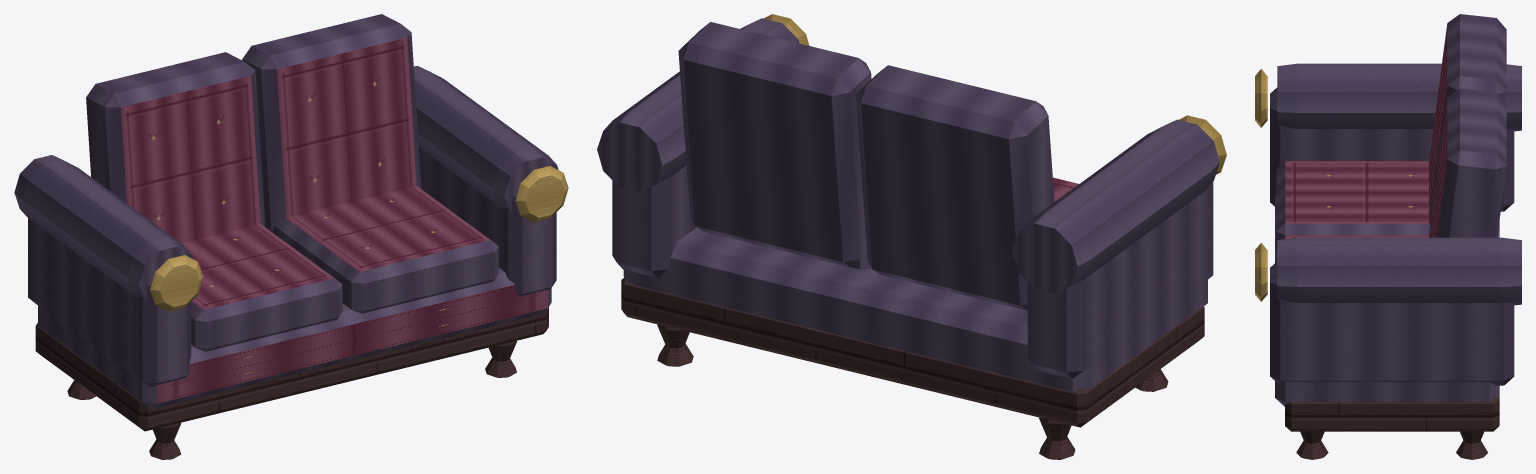
The model's file is MD_22_Loveseat.fbx.
The picture shows the model from 3 angles, left to right: view 1: azimuth 30°, elevation 25°; view 2: azimuth 150°, elevation 25°; view 3: azimuth 270°, elevation 25°; orthographic projection. The views are drawn at different scales.
Parts seen in each view (by area): view 1: MD_22_Loveseat_back_cushion_1, MD_22_Loveseat_back_cushion_0, MD_22_Loveseat_upholstered_base, MD_22_Loveseat_seat_cushion_1, MD_22_Loveseat_seat_cushion_0, MD_22_Loveseat_curved_arm_base, MD_22_Loveseat_rolled_arm, MD_22_Loveseat_timber_apron, MD_22_Loveseat_rolled_arm.001, MD_22_Loveseat_curved_arm_base.001, MD_22_Loveseat_gilt_arm_finial, MD_22_Loveseat_gilt_arm_finial.001 (+2 smaller); view 2: MD_22_Loveseat_back_cushion_1, MD_22_Loveseat_back_cushion_0, MD_22_Loveseat_upholstered_base, MD_22_Loveseat_timber_apron, MD_22_Loveseat_rolled_arm, MD_22_Loveseat_curved_arm_base, MD_22_Loveseat_rolled_arm.001, MD_22_Loveseat_curved_arm_base.001, MD_22_Loveseat_turned_leg.003, MD_22_Loveseat_turned_leg.001, MD_22_Loveseat_gilt_arm_finial; view 3: MD_22_Loveseat_curved_arm_base.001, MD_22_Loveseat_rolled_arm.001, MD_22_Loveseat_rolled_arm, MD_22_Loveseat_seat_cushion_0, MD_22_Loveseat_back_cushion_1, MD_22_Loveseat_curved_arm_base, MD_22_Loveseat_timber_apron, MD_22_Loveseat_back_cushion_0, MD_22_Loveseat_upholstered_base, MD_22_Loveseat_turned_leg.003, MD_22_Loveseat_turned_leg.002, MD_22_Loveseat_gilt_arm_finial (+2 smaller).
Part boxes in pixels (bbox=[...]): MD_22_Loveseat_back_cushion_1: bbox=[242, 14, 421, 231]; MD_22_Loveseat_back_cushion_0: bbox=[86, 52, 265, 243]; MD_22_Loveseat_upholstered_base: bbox=[38, 268, 551, 409]; MD_22_Loveseat_seat_cushion_1: bbox=[268, 186, 498, 313]; MD_22_Loveseat_seat_cushion_0: bbox=[182, 224, 342, 351]; MD_22_Loveseat_curved_arm_base: bbox=[28, 218, 191, 386]; MD_22_Loveseat_rolled_arm: bbox=[14, 155, 193, 301]; MD_22_Loveseat_timber_apron: bbox=[35, 307, 548, 431]; MD_22_Loveseat_rolled_arm.001: bbox=[413, 65, 558, 211]; MD_22_Loveseat_curved_arm_base.001: bbox=[419, 148, 556, 296]; MD_22_Loveseat_gilt_arm_finial: bbox=[150, 255, 202, 311]; MD_22_Loveseat_gilt_arm_finial.001: bbox=[515, 166, 568, 222]; MD_22_Loveseat_back_cushion_1: bbox=[678, 22, 871, 267]; MD_22_Loveseat_back_cushion_0: bbox=[856, 65, 1054, 310]; MD_22_Loveseat_upholstered_base: bbox=[623, 227, 1207, 392]; MD_22_Loveseat_timber_apron: bbox=[621, 277, 1204, 427]; MD_22_Loveseat_rolled_arm: bbox=[1012, 119, 1219, 293]; MD_22_Loveseat_curved_arm_base: bbox=[1027, 180, 1213, 378]; MD_22_Loveseat_rolled_arm.001: bbox=[597, 18, 799, 192]; MD_22_Loveseat_curved_arm_base.001: bbox=[612, 165, 696, 277]; MD_22_Loveseat_turned_leg.003: bbox=[657, 324, 693, 366]; MD_22_Loveseat_turned_leg.001: bbox=[1039, 417, 1075, 459]; MD_22_Loveseat_gilt_arm_finial: bbox=[1179, 115, 1226, 174]; MD_22_Loveseat_curved_arm_base.001: bbox=[1270, 261, 1514, 385]; MD_22_Loveseat_rolled_arm.001: bbox=[1277, 237, 1521, 305]; MD_22_Loveseat_rolled_arm: bbox=[1277, 63, 1521, 131]; MD_22_Loveseat_seat_cushion_0: bbox=[1276, 161, 1430, 242]; MD_22_Loveseat_back_cushion_1: bbox=[1429, 88, 1506, 237]; MD_22_Loveseat_curved_arm_base: bbox=[1270, 87, 1514, 211]; MD_22_Loveseat_timber_apron: bbox=[1285, 397, 1499, 431]; MD_22_Loveseat_back_cushion_0: bbox=[1429, 14, 1506, 224]; MD_22_Loveseat_upholstered_base: bbox=[1275, 196, 1499, 406]; MD_22_Loveseat_turned_leg.003: bbox=[1456, 431, 1487, 459]; MD_22_Loveseat_turned_leg.002: bbox=[1296, 431, 1328, 459]; MD_22_Loveseat_gilt_arm_finial: bbox=[1255, 69, 1267, 127].
Size of the model in its own units: 1.93 by 1.3 by 1.07.
4 materials, 4 textured.
